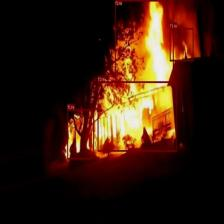fire: (98, 81, 176, 151), (115, 0, 173, 82), (67, 109, 94, 159), (169, 28, 194, 61)
